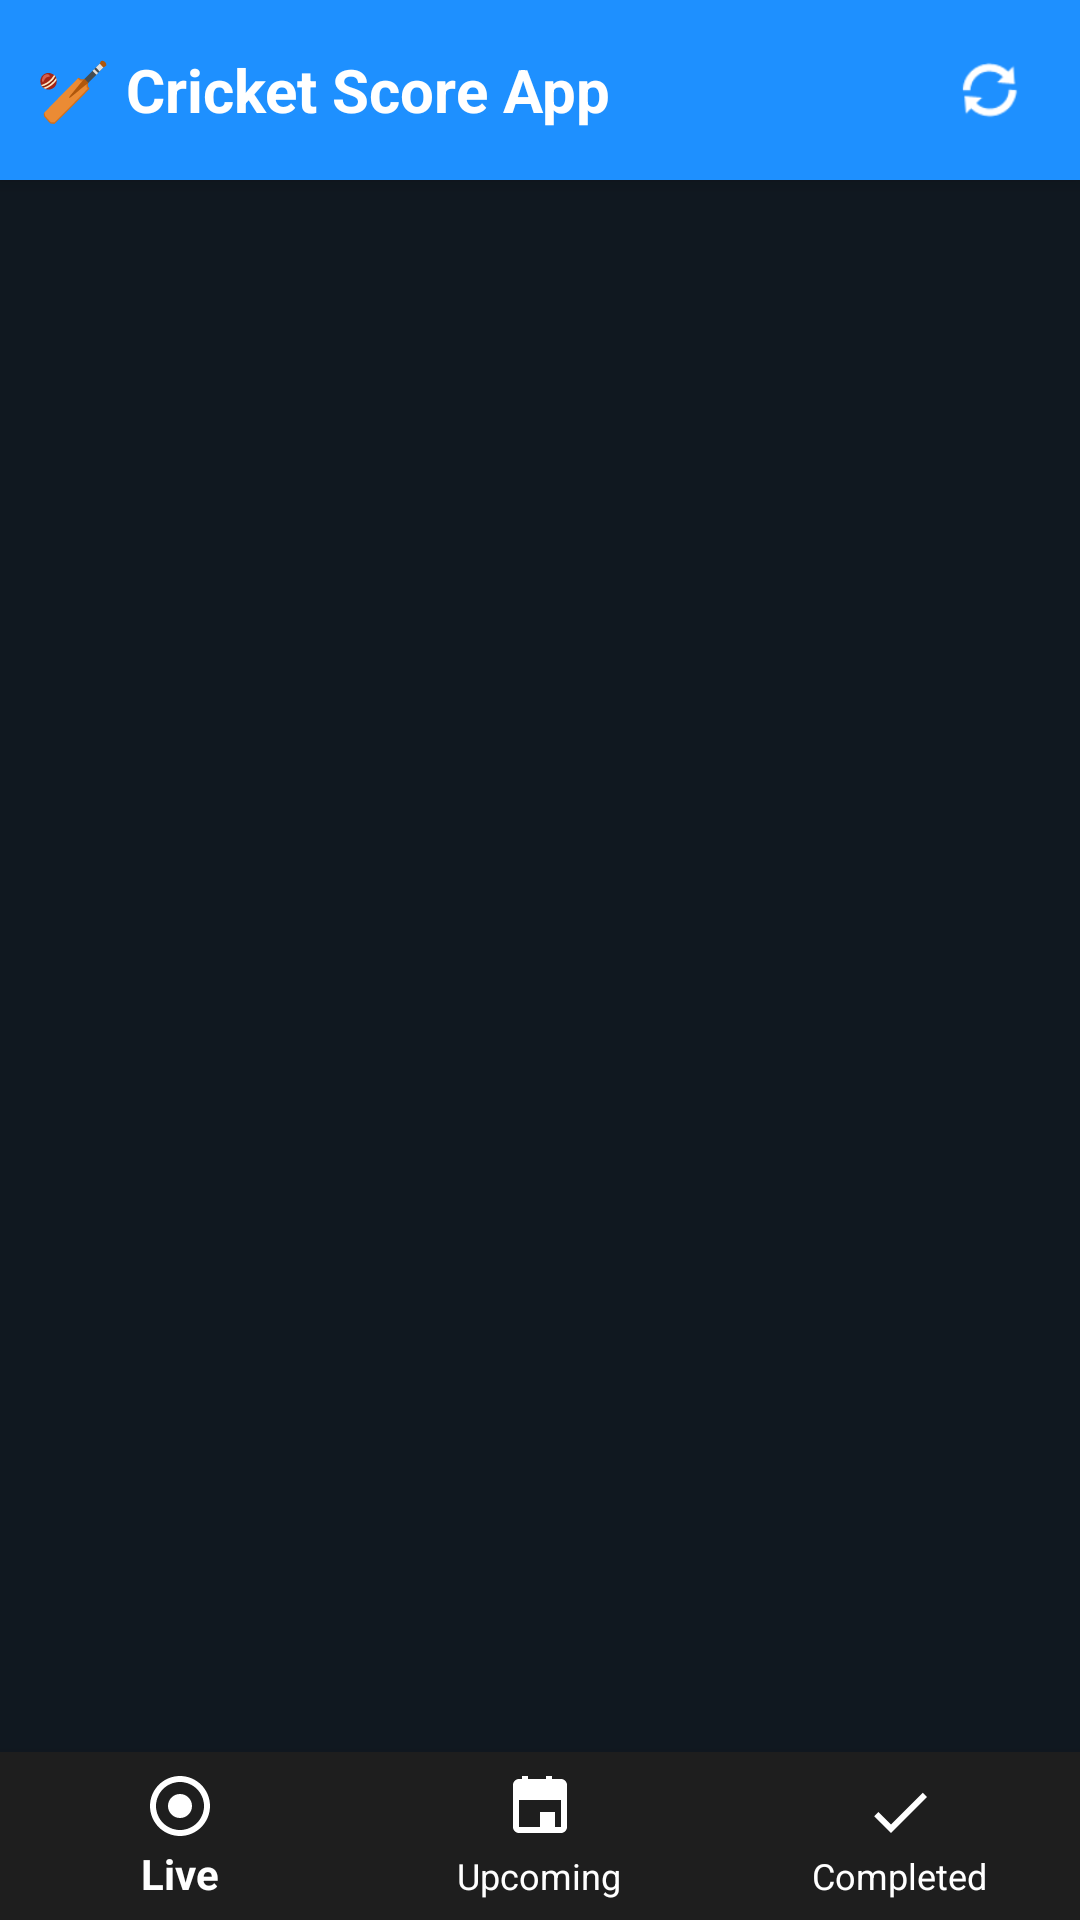

Named icons in this screenshot (1080w x 1920h) and their bounding boxes, (x1, y1, x2, y2):
Refresh: (962, 63, 1017, 117)
